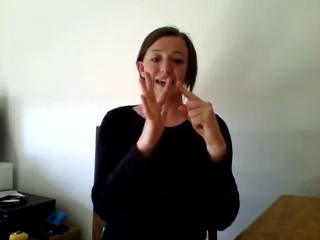E: (126, 65, 222, 147)
